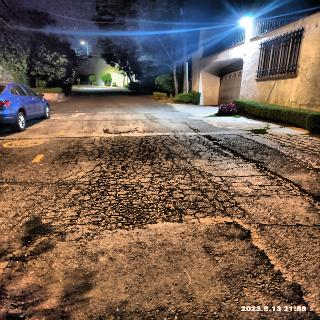alligator-crack: (45, 129, 243, 231)
